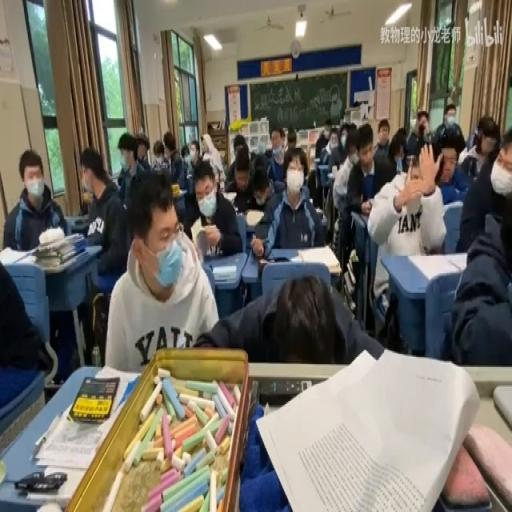calculator: (257, 341, 477, 509), (33, 410, 109, 470), (22, 461, 86, 509), (407, 250, 464, 280), (297, 243, 342, 273), (492, 382, 512, 432), (0, 245, 31, 266), (64, 213, 89, 235), (350, 209, 366, 238), (211, 263, 237, 280), (315, 162, 331, 184), (262, 255, 294, 263), (152, 158, 168, 173), (222, 189, 236, 202), (171, 188, 187, 196), (314, 206, 324, 218), (290, 255, 304, 263), (332, 162, 338, 176), (314, 155, 320, 161)
paper: (2, 148, 74, 374), (202, 276, 384, 365), (70, 142, 128, 363), (445, 177, 512, 365), (343, 122, 394, 239), (186, 156, 242, 259), (458, 115, 500, 198), (238, 154, 280, 223), (115, 129, 146, 198), (433, 102, 466, 160), (406, 107, 432, 162), (282, 130, 308, 180), (165, 136, 187, 188), (386, 128, 408, 172), (329, 121, 349, 168), (186, 135, 204, 176), (314, 120, 332, 160), (374, 117, 390, 155), (466, 124, 478, 149), (233, 132, 246, 155), (214, 168, 225, 192), (346, 146, 358, 166), (444, 102, 456, 118), (153, 141, 164, 158), (346, 122, 358, 136), (256, 139, 266, 155), (286, 136, 296, 150), (181, 148, 189, 163), (200, 141, 208, 155)
person: (67, 376, 119, 422), (254, 375, 317, 407), (252, 219, 274, 238)
